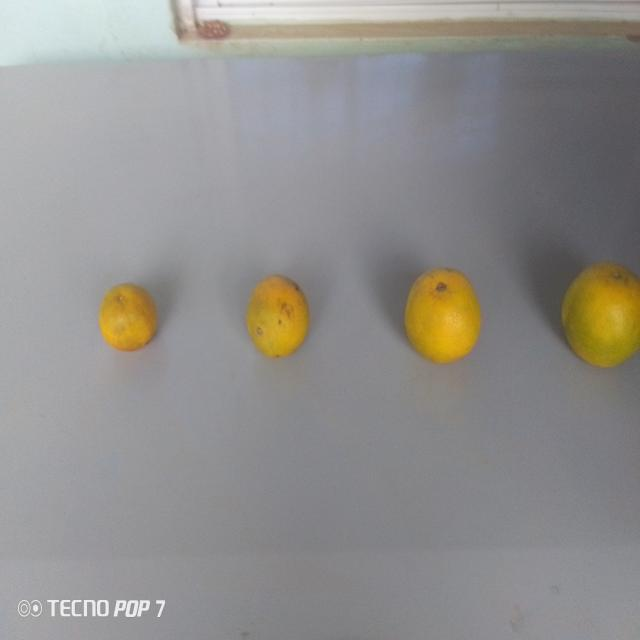Ripe orange: (557, 250, 640, 375), (405, 261, 483, 370), (239, 269, 309, 370), (95, 274, 164, 357)
